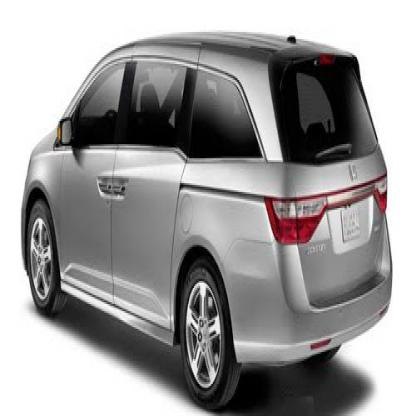Vehicle: (21, 32, 397, 414)
